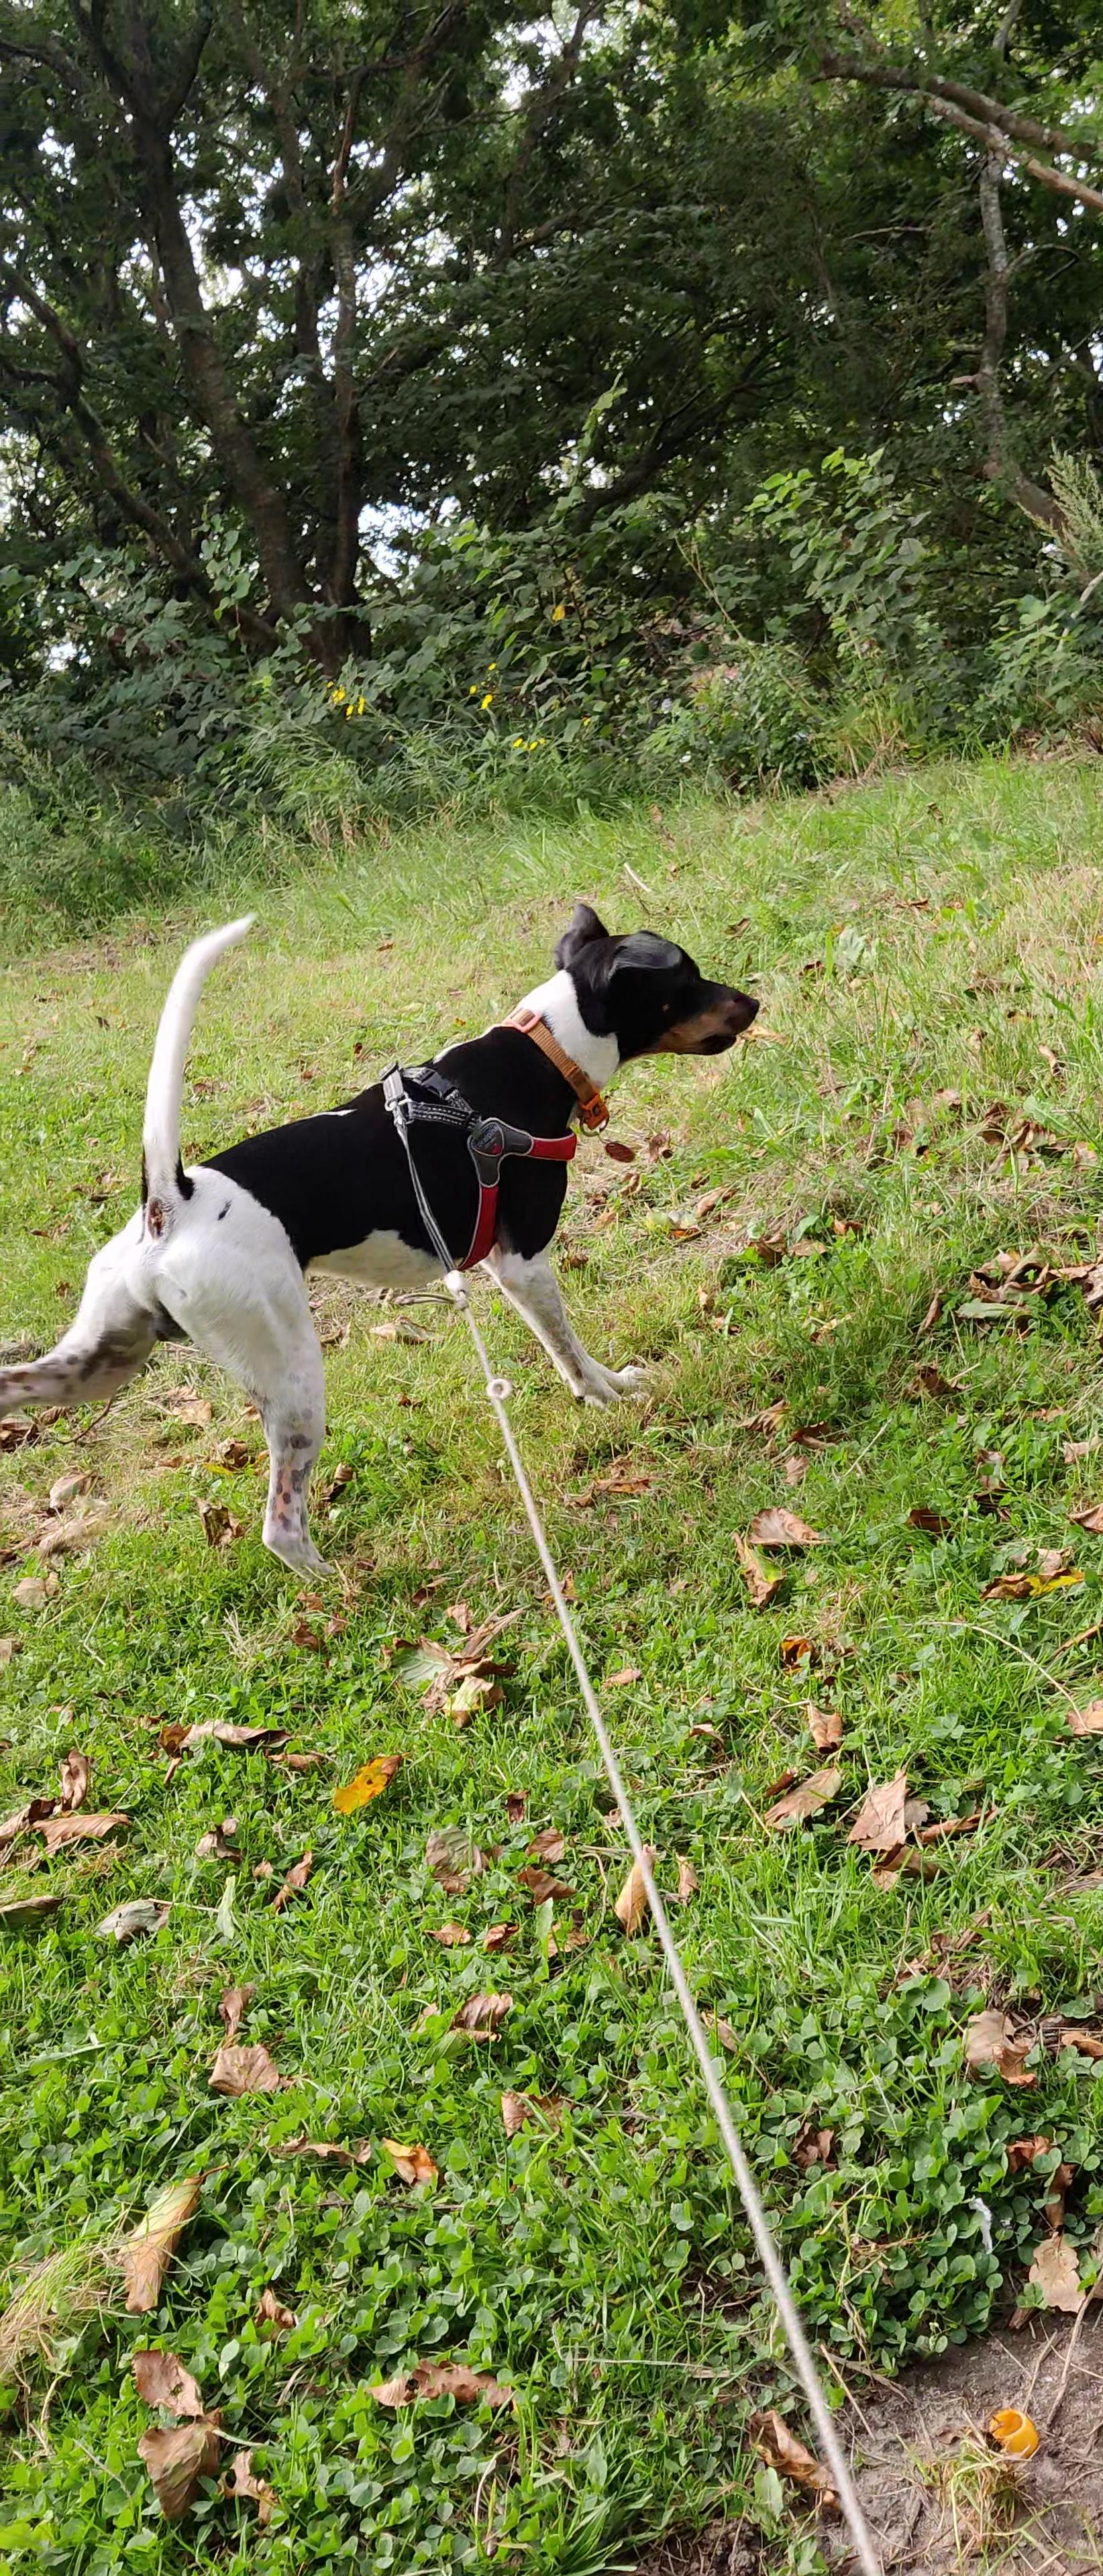Dog: (0, 885, 792, 1608)
